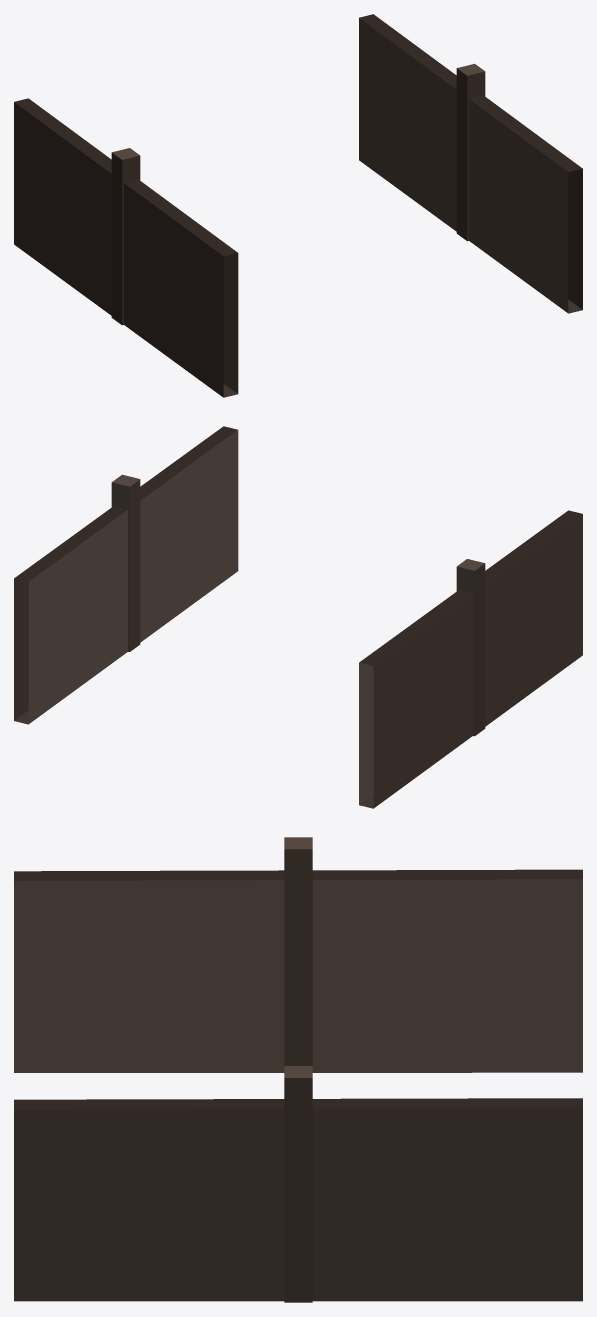
File: Bridge-MidLOD2.fbx
The picture shows the model from 3 angles, top to bottom: view 1: azimuth 30°, elevation 25°; view 2: azimuth 150°, elevation 25°; view 3: azimuth 270°, elevation 25°; orthographic projection. The views are drawn at different scales.
Visible parts, largest first — view 1: Bridge-MidLOD2; view 2: Bridge-MidLOD2; view 3: Bridge-MidLOD2.
Part boxes in pixels (left/top/right/bottom): Bridge-MidLOD2: left=14, top=14, right=582, bottom=397; Bridge-MidLOD2: left=14, top=426, right=582, bottom=808; Bridge-MidLOD2: left=14, top=837, right=582, bottom=1302.
Bounding box in the file's own units: 500 × 218 × 500.
